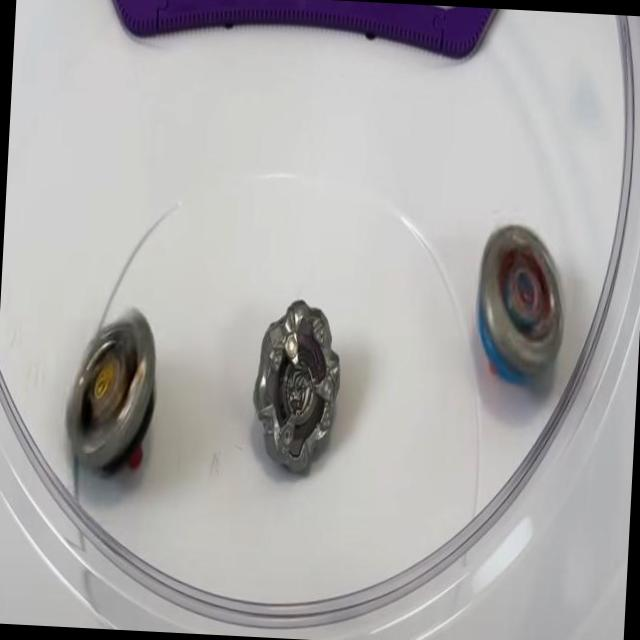Beyblade: (470, 215, 574, 398), (61, 307, 163, 481), (248, 298, 346, 477)
